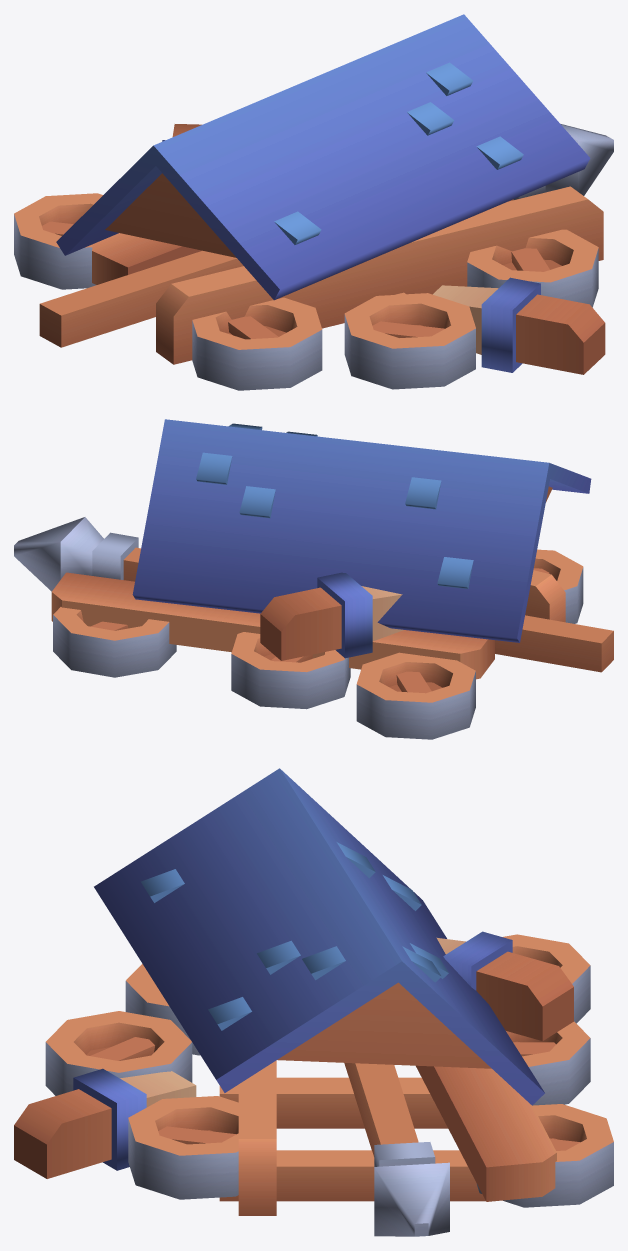
The model's file is siege-ram-demolished.glb.
3 renders of one model, top to bottom at view 1: azimuth 30°, elevation 25°; view 2: azimuth 150°, elevation 25°; view 3: azimuth 270°, elevation 25°, orthographic. The views are drawn at different scales.
Parts seen in each view (by area): view 1: siege-ram-demolished; view 2: siege-ram-demolished; view 3: siege-ram-demolished.
Boxes of the visible parts, x1,y1,x2,y2 form: siege-ram-demolished: (14, 14, 613, 390); siege-ram-demolished: (14, 419, 613, 739); siege-ram-demolished: (14, 768, 613, 1236).
Bounding box in the file's own units: 2.08 × 0.7232 × 1.65.
Materials: 1 (1 with a texture image).
